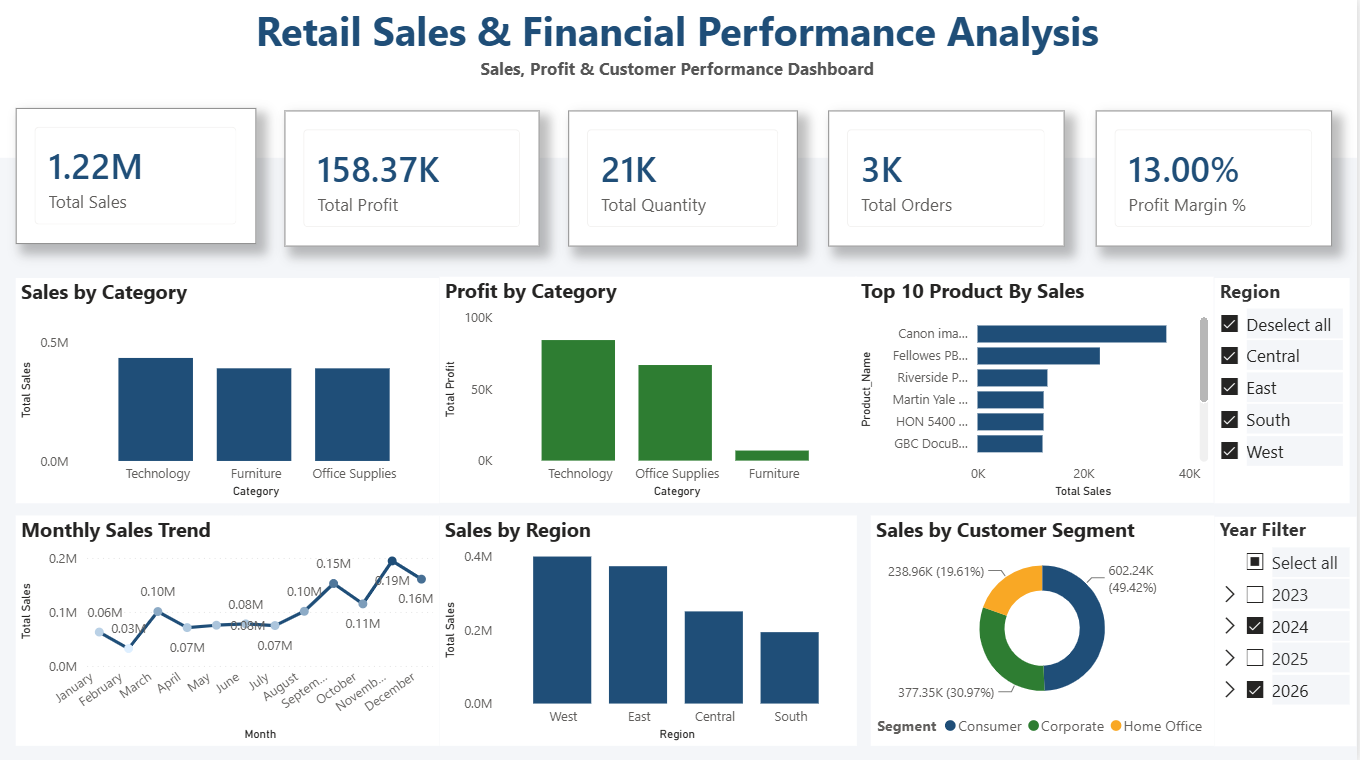

This screenshot's page, from the dashboard's own definition file:
{"tool":"powerbi","page":{"name":"Page 1","canvas":[1280,720],"ordinal":0},"visuals":[{"type":"textbox","box":[0,0,1280.5,150.7],"z":0},{"type":"cardVisual","fields":{"Data":["Orders.Total Sales"]},"box":[18,104,226,128],"z":1000},{"type":"cardVisual","fields":{"Data":["Orders.Total Profit"]},"box":[270,106,240,128],"z":2000},{"type":"cardVisual","fields":{"Data":["Orders.Total Quantity"]},"box":[538,106,216,128],"z":3000},{"type":"clusteredColumnChart","title":" Sales by Category","fields":{"Category":["Orders.Category"],"Y":["Orders.Total Sales"]},"box":[17.6,263.4,398,212.2],"z":4000},{"type":"clusteredColumnChart","title":"Profit  by Category","fields":{"Category":["Orders.Category"],"Y":["Orders.Total Profit"]},"box":[416.2,262.6,393.1,213.1],"z":5000},{"type":"lineChart","title":"Monthly Sales Trend","fields":{"Category":["Orders.Order_Date.Variation.Date Hierarchy.Month"],"Y":["Orders.Total Sales"]},"box":[17.6,487.3,398,216.6],"z":6000},{"type":"listSlicer","title":"Year Filter ","fields":{"Values":["Orders.Order_Date.Variation.Date Hierarchy.Year","Orders.Order_Date.Variation.Date Hierarchy.Quarter","Orders.Order_Date.Variation.Date Hierarchy.Month","Orders.Order_Date.Variation.Date Hierarchy.Day"]},"box":[1145.8,488.1,133.8,216.4],"z":7000},{"type":"listSlicer","fields":{"Values":["Orders.Region"]},"box":[1145.9,263.4,127.3,212.2],"z":8000},{"type":"clusteredBarChart","title":"Top 10 Product By Sales","fields":{"Category":["Orders.Product_Name"],"Y":["Orders.Total Sales"]},"box":[808,262,336.9,213.1],"z":9000},{"type":"donutChart","title":"Sales by Customer Segment","fields":{"Category":["Orders.Segment"],"Y":["Orders.Total Sales"]},"box":[822,487,323,217],"z":10000},{"type":"cardVisual","fields":{"Data":["Orders.Total Orders"]},"box":[782,106,222,128],"z":11000},{"type":"clusteredColumnChart","title":" Sales by Region","fields":{"Category":["Orders.Region"],"Y":["Orders.Total Sales"]},"box":[416,487,393,217],"z":12000},{"type":"cardVisual","fields":{"Data":["Orders.Profit Margin %"]},"box":[1034,106,222,128],"z":13000}]}

Visuals, with their boxes in screenshot pixels (x1, y1, x2, y2), scaled from the page's 1280x720 canvas onto the 1360x760 screenshot:
textbox: 0,0,1359,159
cardVisual - Orders.Total Sales: 19,110,259,245
cardVisual - Orders.Total Profit: 287,112,542,247
cardVisual - Orders.Total Quantity: 572,112,801,247
" Sales by Category" clusteredColumnChart: 19,278,442,502
"Profit  by Category" clusteredColumnChart: 442,277,860,502
"Monthly Sales Trend" lineChart: 19,514,442,743
"Year Filter " listSlicer: 1217,515,1359,744
listSlicer - Orders.Region: 1218,278,1353,502
"Top 10 Product By Sales" clusteredBarChart: 858,277,1216,501
"Sales by Customer Segment" donutChart: 873,514,1217,743
cardVisual - Orders.Total Orders: 831,112,1067,247
" Sales by Region" clusteredColumnChart: 442,514,860,743
cardVisual - Orders.Profit Margin %: 1099,112,1334,247
